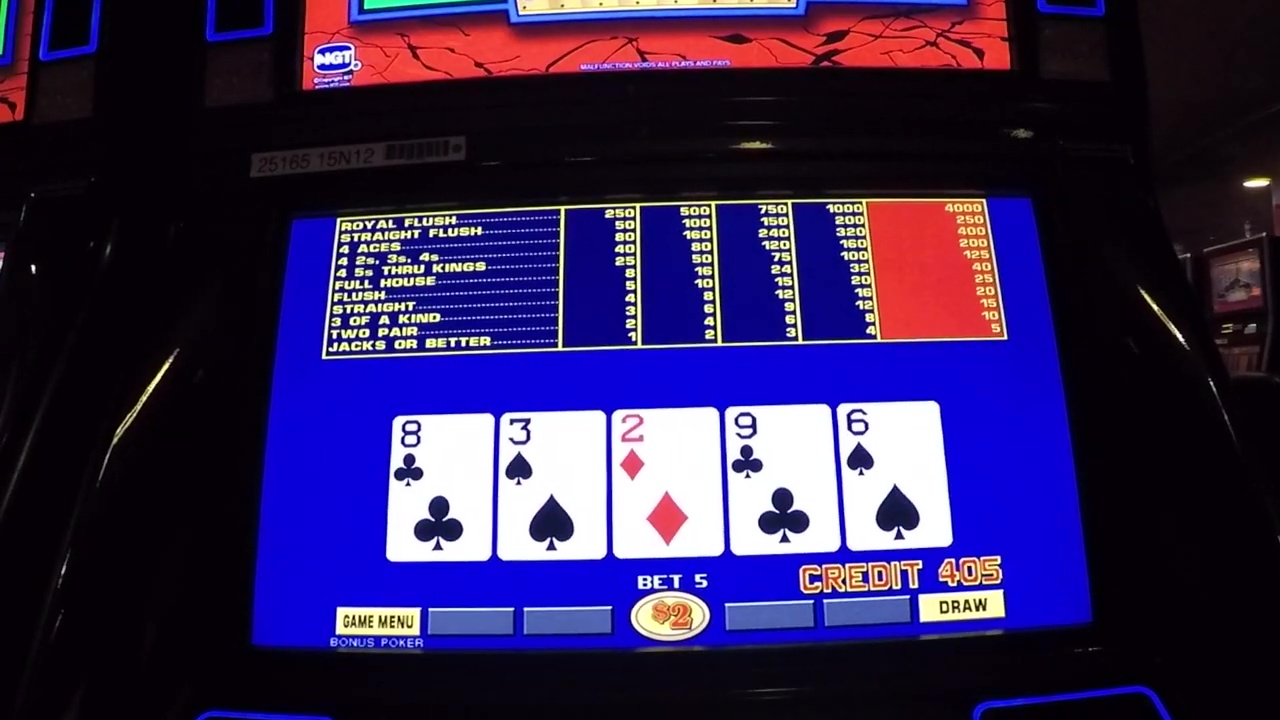C8: (393, 419, 493, 487)
C9: (726, 406, 833, 484)
D2: (610, 406, 719, 487)
S3: (500, 414, 605, 490)
S6: (840, 404, 942, 479)
